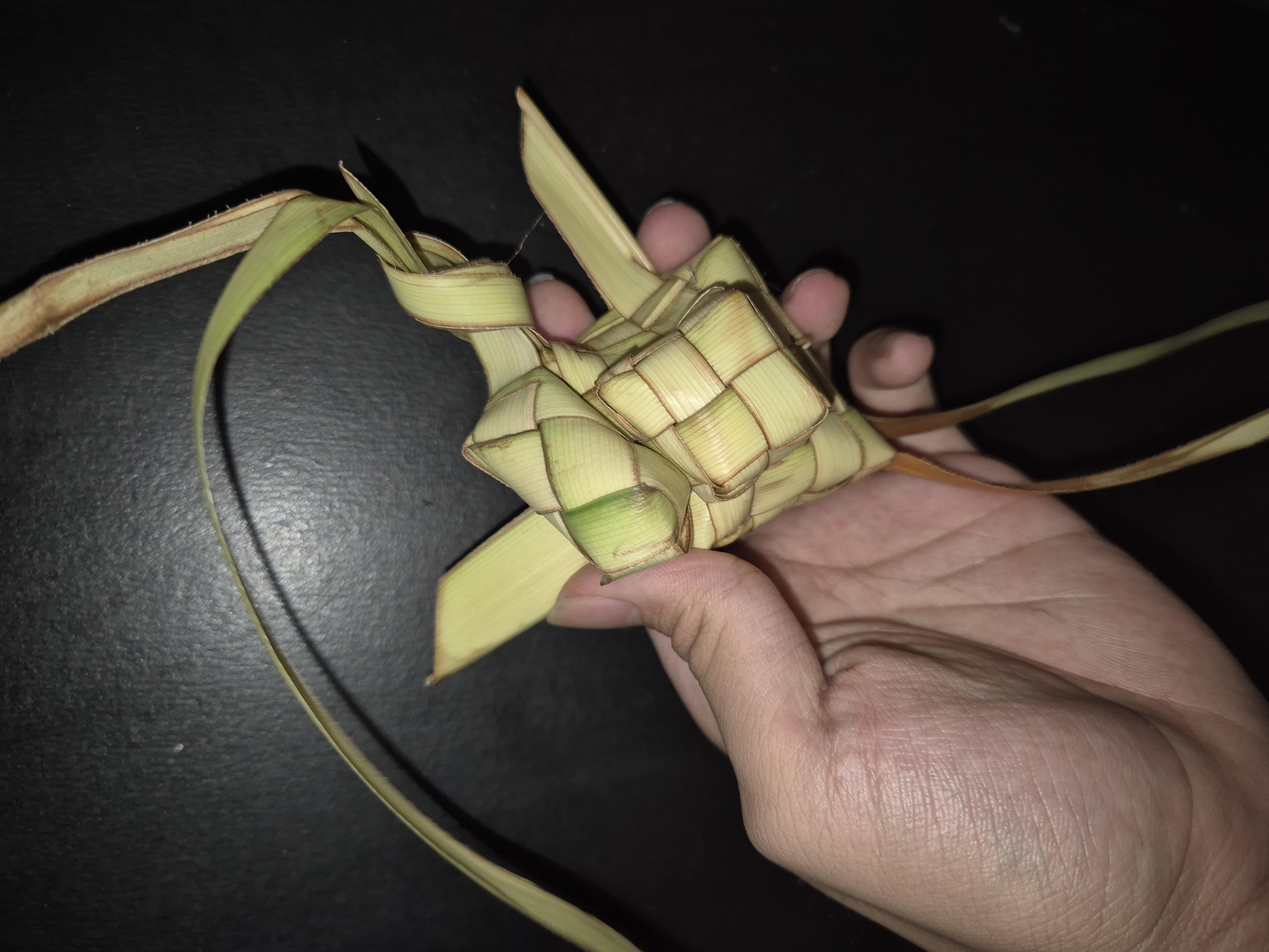Tipat Gong: (539, 410, 953, 672)
